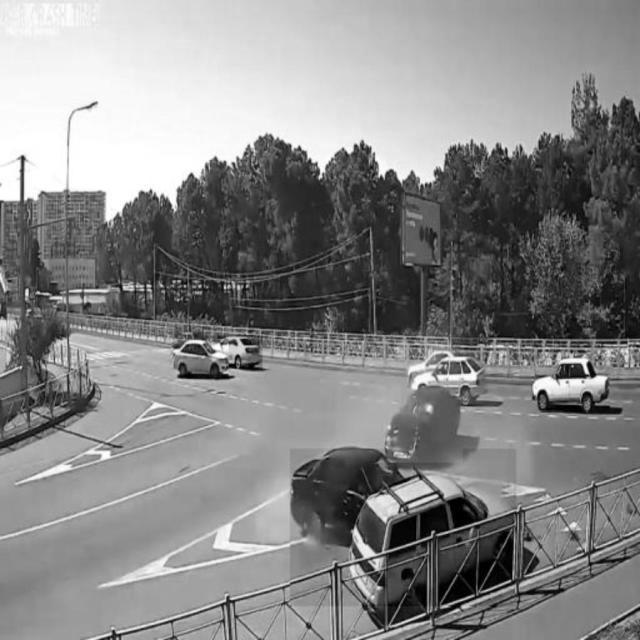accident: (290, 450, 516, 607)
vehicle: (388, 387, 462, 463), (535, 357, 609, 412), (411, 353, 488, 403), (172, 340, 229, 377), (218, 335, 263, 369)
